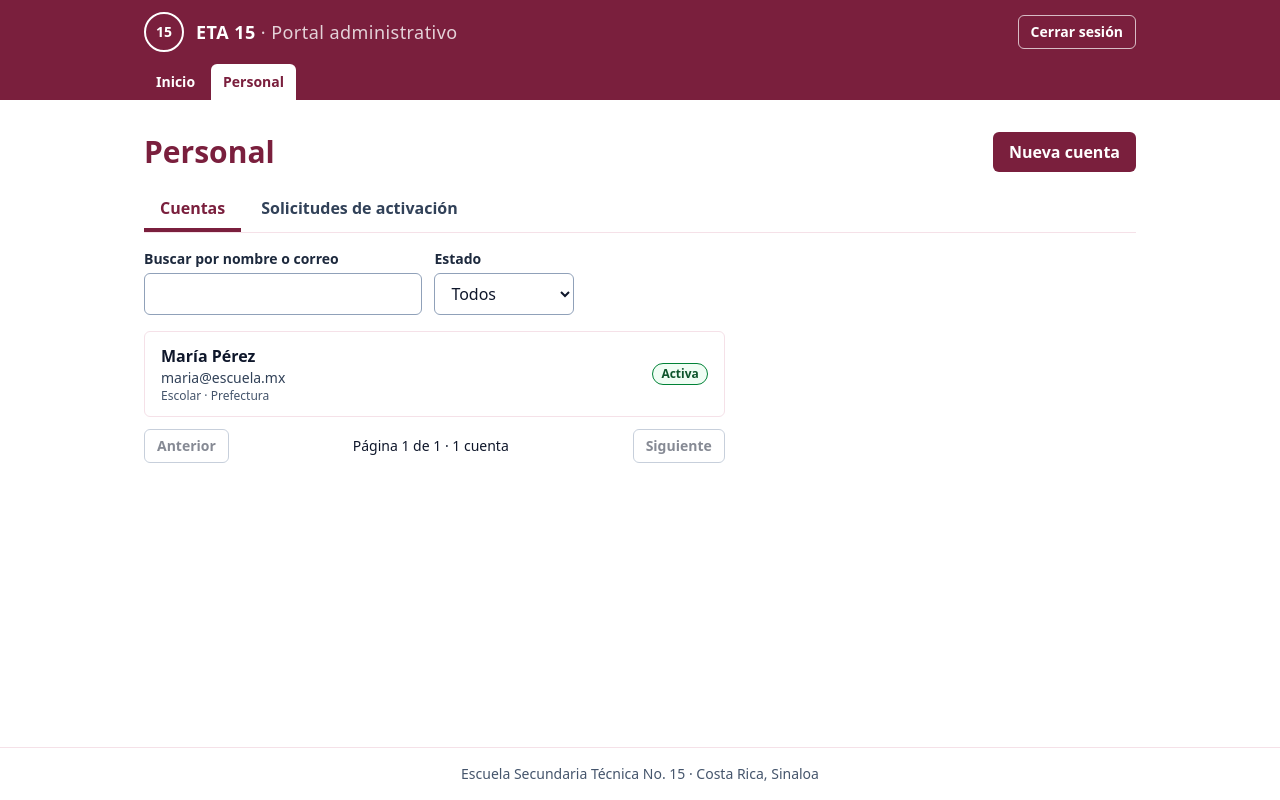
detalle, roles y deshabilitar › quien solo puede leer/administrar cuentas (sin roles:grant) no ve asignar ni revocar roles
Click the text "María Pérez".
click(208, 356)  # box [161,345,255,367]
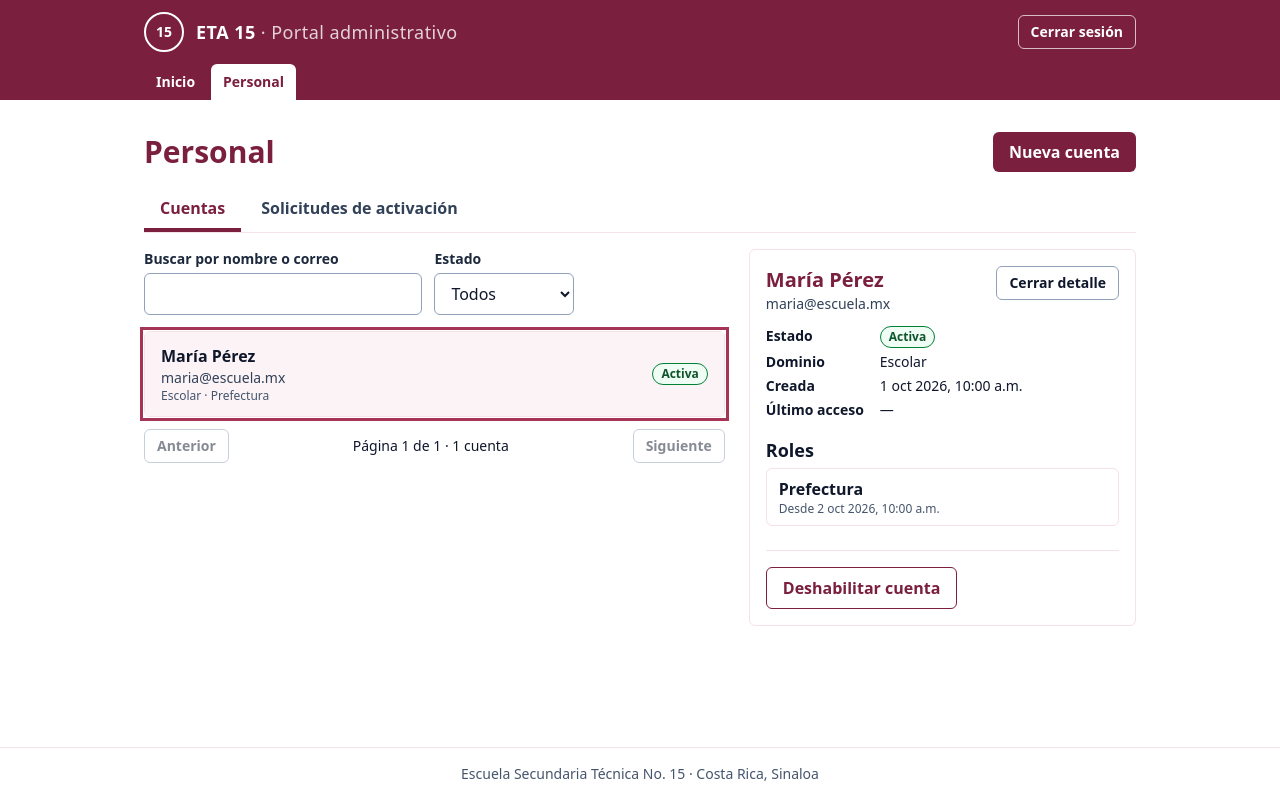
Expected: the button "Deshabilitar cuenta" is shown, [766,567,957,609]
